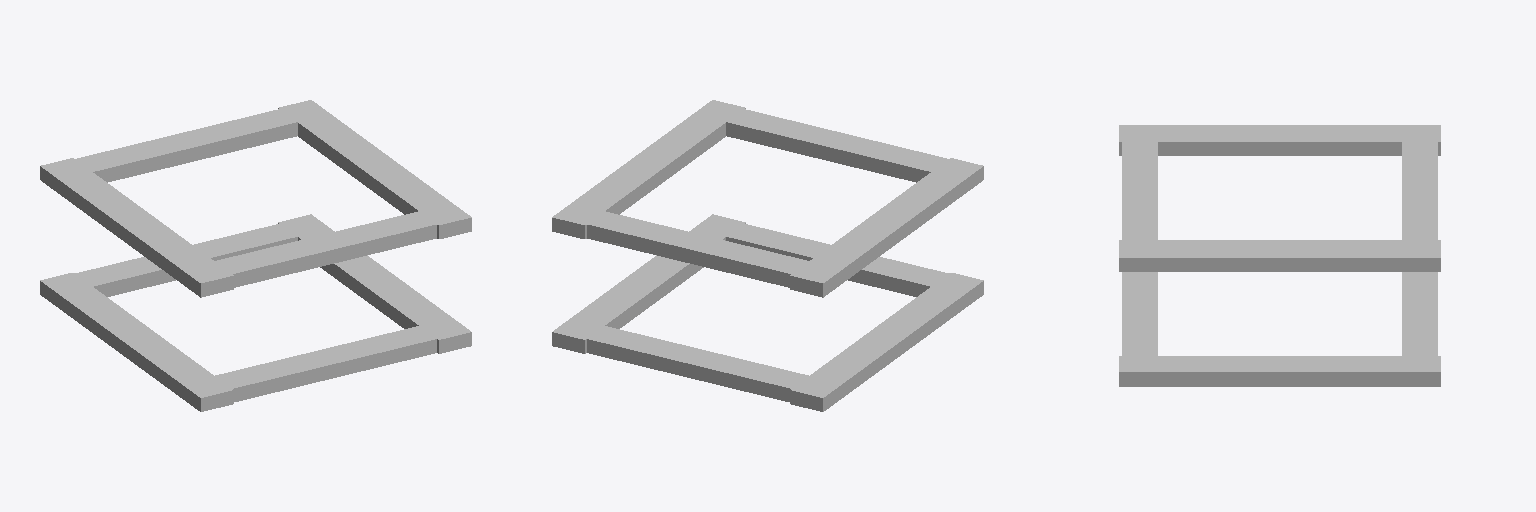
The model's file is roomB.obj.
3 views of the same model, side by side, from view 1: azimuth 30°, elevation 25°; view 2: azimuth 150°, elevation 25°; view 3: azimuth 270°, elevation 25° (orthographic).
Visible parts, largest first — view 1: Cube.004_Cube.001, Cube.004_Cube.002, Cube.003_Cube.002, Cube.001_Cube.003, Cube.002_Cube.002, Cube.001_Cube.001, Cube.003_Cube.001, Cube.002_Cube.001; view 2: Cube.004_Cube.001, Cube.004_Cube.002, Cube.003_Cube.002, Cube.002_Cube.001, Cube.001_Cube.003, Cube.002_Cube.002, Cube.003_Cube.001, Cube.001_Cube.001; view 3: Cube.003_Cube.001, Cube.003_Cube.002, Cube.004_Cube.002, Cube.002_Cube.002, Cube.001_Cube.003, Cube.002_Cube.001, Cube.001_Cube.001.
Part boxes in pixels (left/top/right/bottom): Cube.004_Cube.001: left=40, top=273, right=233, bottom=411; Cube.004_Cube.002: left=40, top=158, right=233, bottom=297; Cube.003_Cube.002: left=278, top=100, right=471, bottom=238; Cube.001_Cube.003: left=199, top=209, right=444, bottom=287; Cube.002_Cube.002: left=61, top=107, right=304, bottom=182; Cube.001_Cube.001: left=214, top=326, right=436, bottom=401; Cube.003_Cube.001: left=278, top=214, right=471, bottom=353; Cube.002_Cube.001: left=59, top=222, right=306, bottom=296; Cube.004_Cube.001: left=790, top=273, right=983, bottom=411; Cube.004_Cube.002: left=790, top=158, right=983, bottom=297; Cube.003_Cube.002: left=552, top=100, right=745, bottom=238; Cube.002_Cube.001: left=585, top=324, right=824, bottom=401; Cube.001_Cube.003: left=719, top=107, right=963, bottom=182; Cube.002_Cube.002: left=581, top=209, right=824, bottom=287; Cube.003_Cube.001: left=552, top=214, right=745, bottom=353; Cube.001_Cube.001: left=717, top=221, right=948, bottom=296; Cube.003_Cube.001: left=1119, top=356, right=1440, bottom=386; Cube.003_Cube.002: left=1119, top=242, right=1440, bottom=271; Cube.004_Cube.002: left=1119, top=125, right=1440, bottom=155; Cube.002_Cube.002: left=1402, top=134, right=1437, bottom=245; Cube.001_Cube.003: left=1122, top=141, right=1157, bottom=245; Cube.002_Cube.001: left=1402, top=272, right=1437, bottom=360; Cube.001_Cube.001: left=1122, top=272, right=1157, bottom=360.
Size of the model in its own units: 8.94 by 4.05 by 9.18.